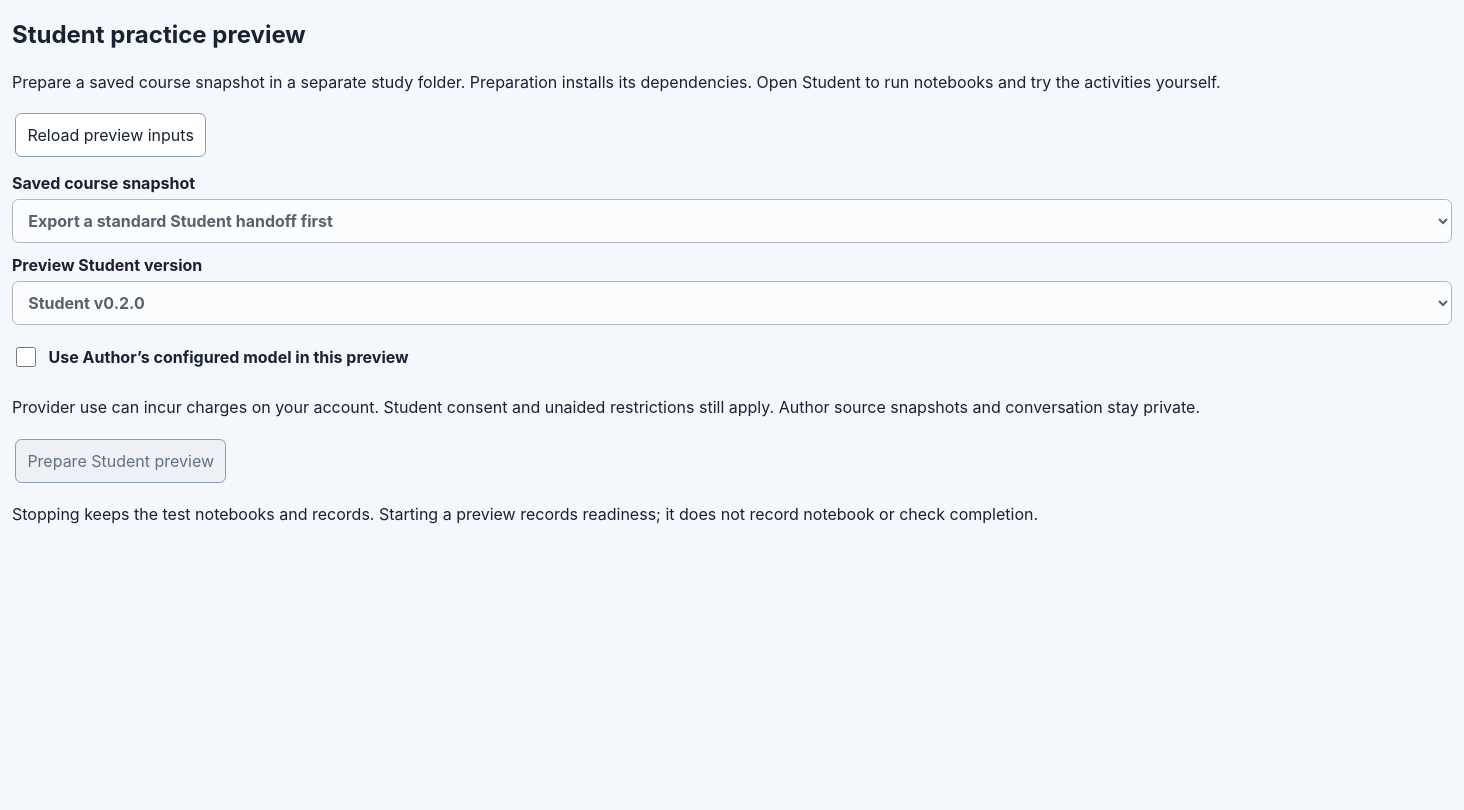
Test: stopping retains test files and discard requires a separate explicit confirmation
The width and height of the screenshot is (1464, 810).
What coordinates should you click on to do the following:
click the button "Reload preview inputs"
I would click on:
 (111, 135)
Its box is x1=15 y1=113 x2=206 y2=157.
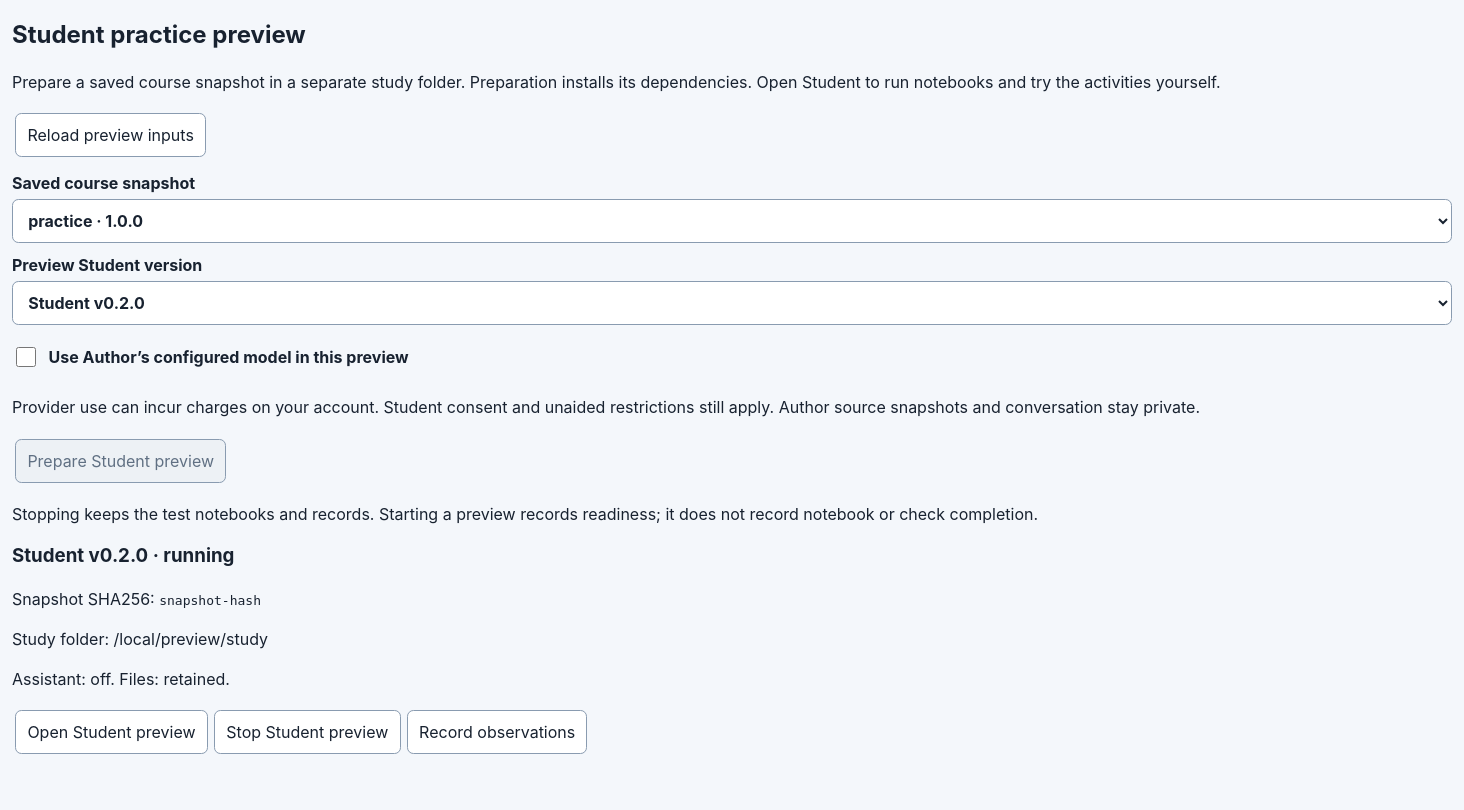
What coordinates should you click on to do the following:
click the button "Stop Student preview"
I would click on:
 (307, 732)
Its box is x1=214 y1=710 x2=401 y2=754.
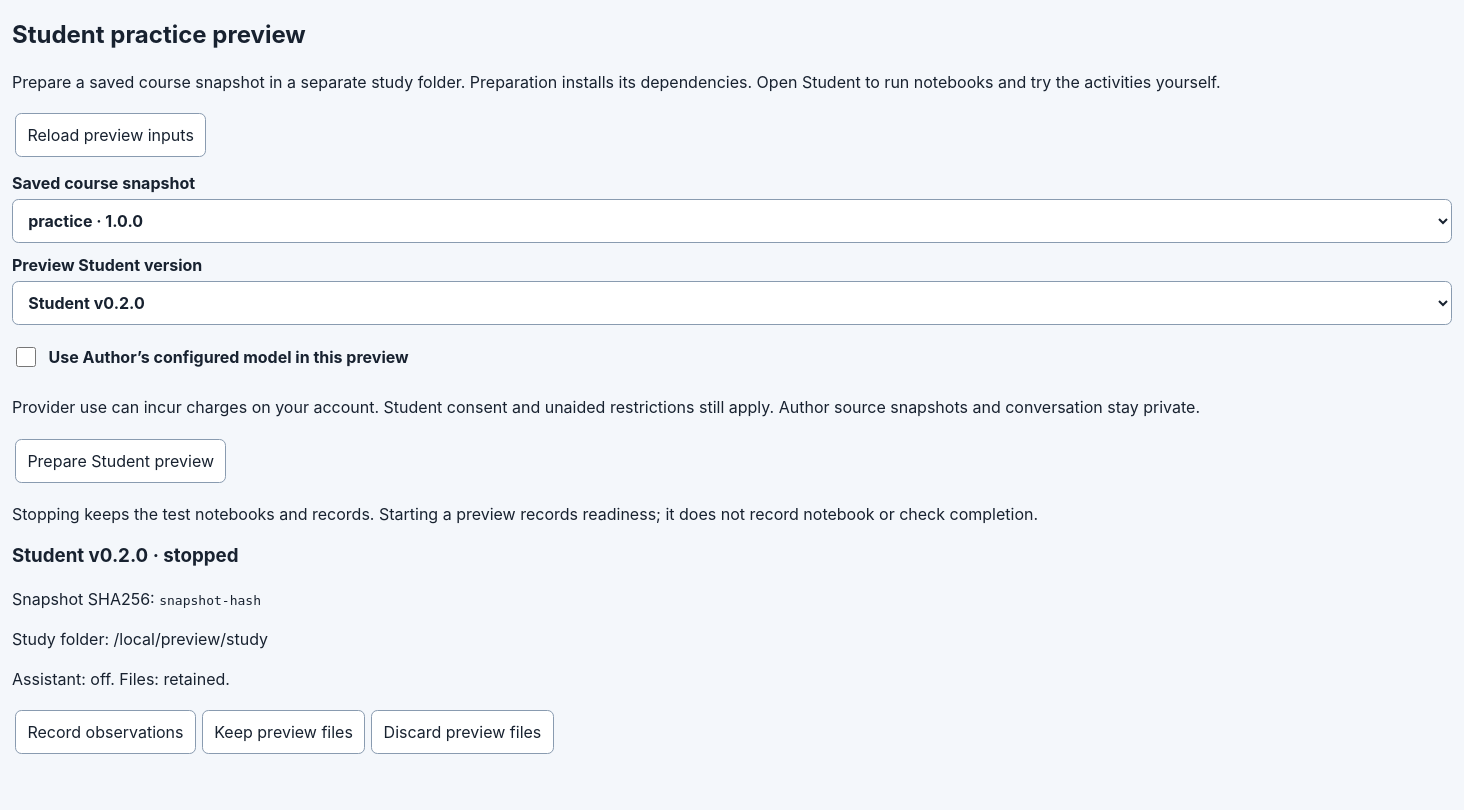
Expected: the button "Discard preview files" is shown
What coordinates should you click on to do the following:
click the button "Discard preview files"
I would click on:
 (462, 732)
Its box is x1=371 y1=710 x2=554 y2=754.
(page scrolled)
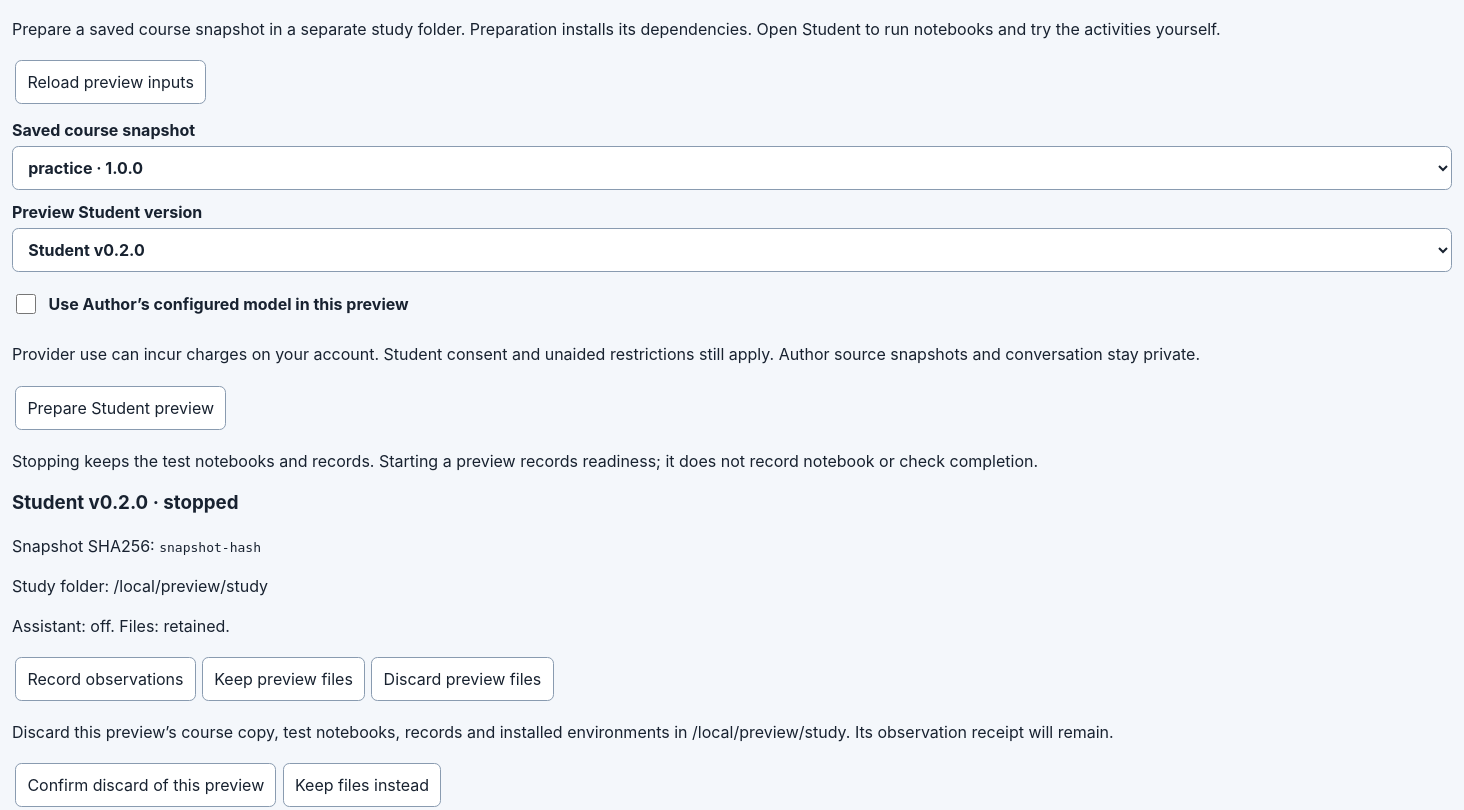
What coordinates should you click on to do the following:
click the button "Confirm discard of this preview"
I would click on:
 (146, 785)
Its box is x1=15 y1=763 x2=276 y2=807.
(page scrolled)
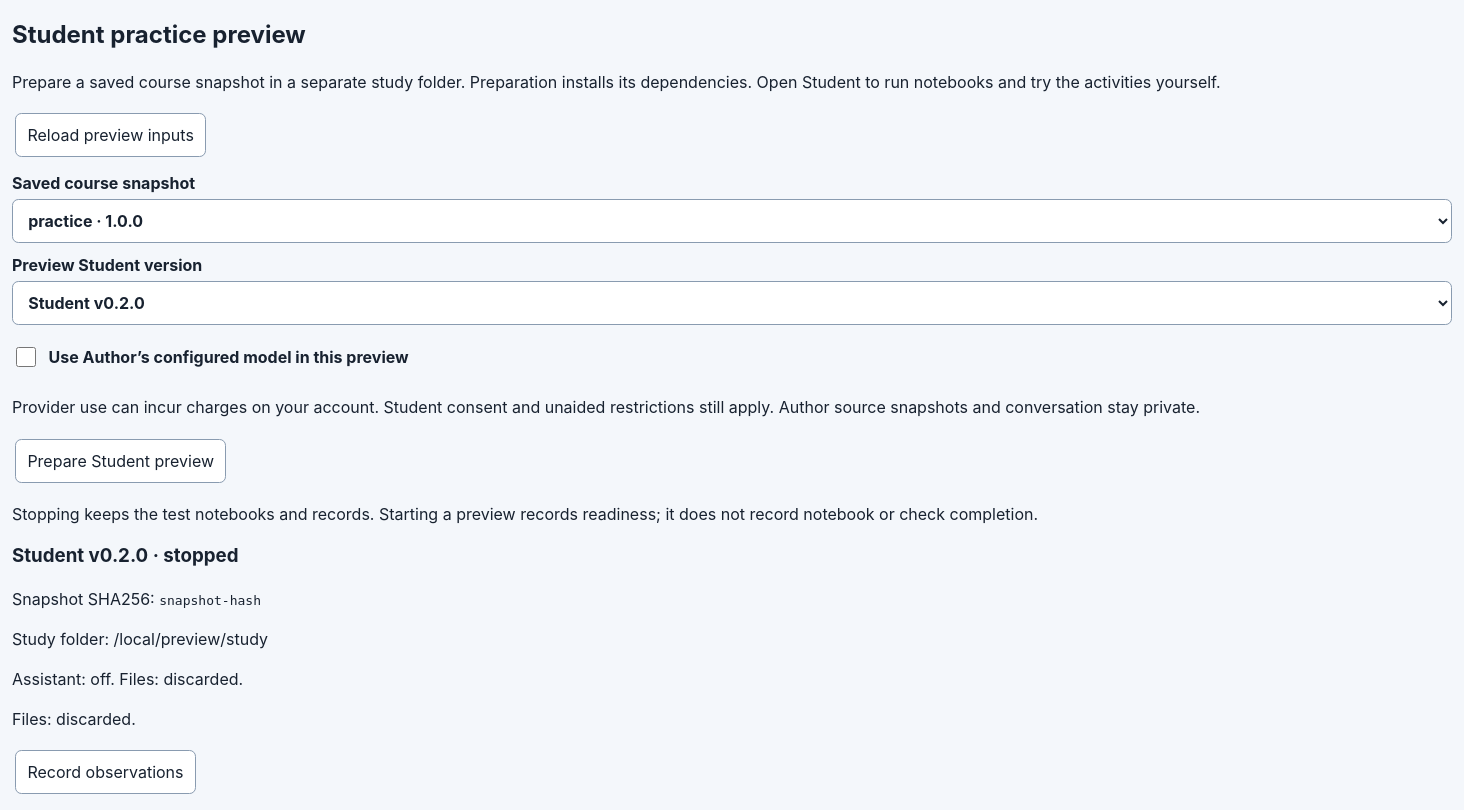
Expected: the text "Files: discarded." is shown, x1=12 y1=709 x2=136 y2=729
